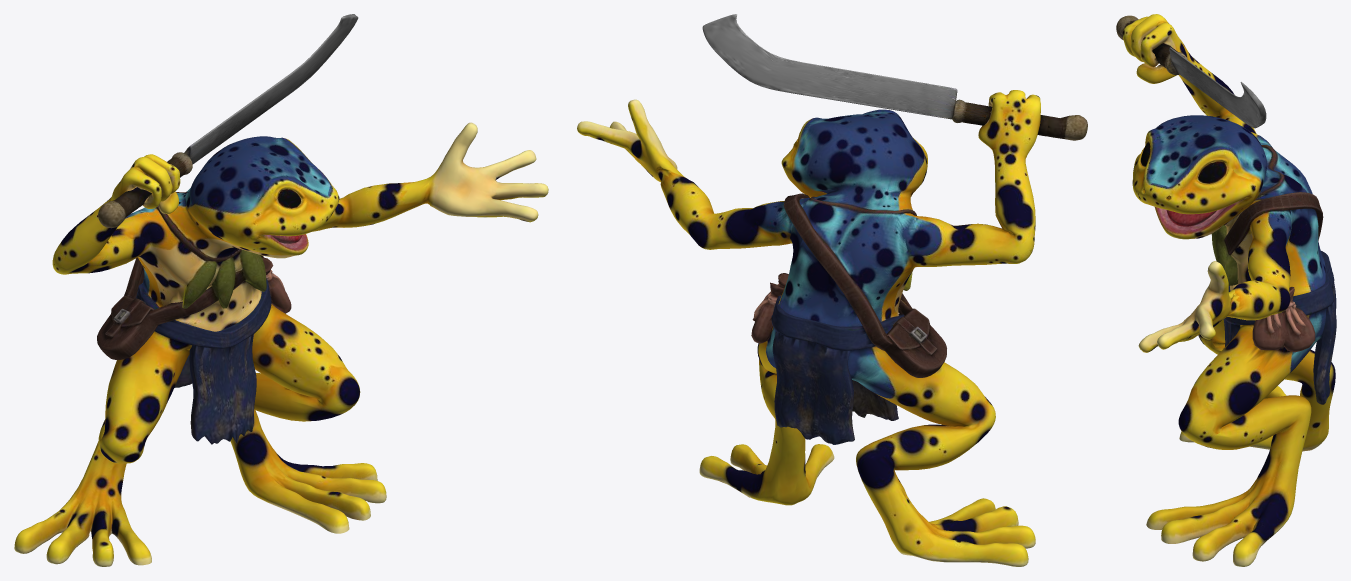
The model's file is MZ4250 - Angulotl Blade.glb.
3 renders of one model, left to right at view 1: azimuth 30°, elevation 25°; view 2: azimuth 150°, elevation 25°; view 3: azimuth 270°, elevation 25°, orthographic.
Visible parts, largest first — view 1: Angulotl Blade.001; view 2: Angulotl Blade.001; view 3: Angulotl Blade.001.
Part boxes in pixels (bbox=[...]): Angulotl Blade.001: bbox=[14, 14, 548, 566]; Angulotl Blade.001: bbox=[577, 14, 1087, 566]; Angulotl Blade.001: bbox=[1116, 14, 1336, 566].
Bounding box in the file's own units: 54.14 × 50.27 × 21.39.
Materials: 1 (1 with a texture image).
